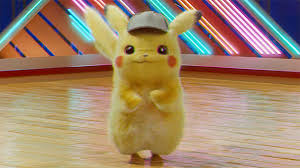pikachu: (83, 6, 202, 163)
